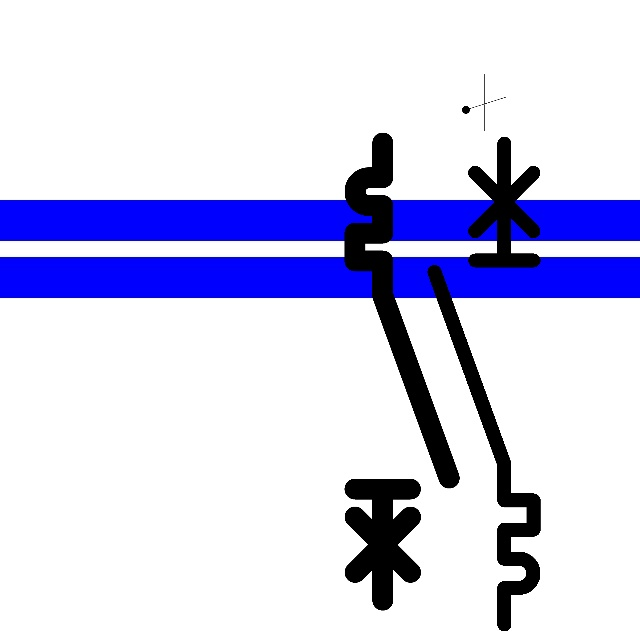interruptor_termomagnetico: (422, 131, 546, 637), (343, 131, 460, 612)
